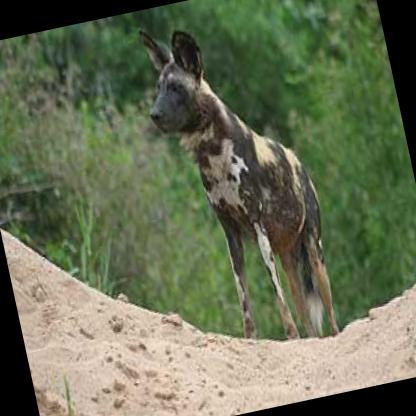African_hunting_dog: (128, 0, 349, 363)
